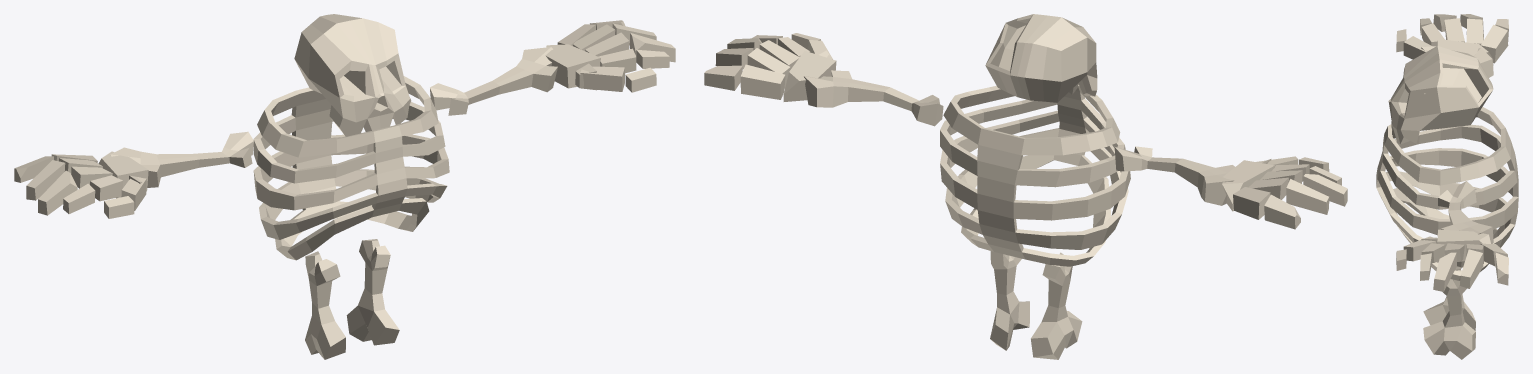
File: sckeleton.fbx
3 renders of one model, left to right at view 1: azimuth 30°, elevation 25°; view 2: azimuth 150°, elevation 25°; view 3: azimuth 270°, elevation 25°, orthographic. The views are drawn at different scales.
Parts seen in each view (by area): view 1: Box001, Object009, Object003, Object004, Object007, Object005, Object006, Object008; view 2: Box001, Object009, Object003, Object004, Object007, Object006, Object008, Object005; view 3: Box001, Object009, Object003, Object004, Object005, Object007, Object006, Object008.
Boxes of the visible parts, bbox=[...] form: Box001: bbox=[253, 76, 449, 260]; Object009: bbox=[294, 14, 411, 136]; Object003: bbox=[545, 20, 675, 92]; Object004: bbox=[14, 151, 148, 218]; Object007: bbox=[430, 47, 557, 115]; Object005: bbox=[346, 239, 399, 345]; Object006: bbox=[305, 251, 345, 359]; Object008: bbox=[110, 131, 253, 187]; Box001: bbox=[940, 84, 1130, 266]; Object009: bbox=[985, 14, 1097, 102]; Object003: bbox=[704, 33, 836, 101]; Object004: bbox=[1222, 156, 1347, 229]; Object007: bbox=[804, 70, 943, 126]; Object006: bbox=[1031, 252, 1082, 359]; Object008: bbox=[1114, 146, 1234, 205]; Object005: bbox=[990, 251, 1029, 350]; Box001: bbox=[1376, 107, 1518, 280]; Object009: bbox=[1388, 46, 1493, 144]; Object003: bbox=[1396, 229, 1508, 291]; Object004: bbox=[1396, 14, 1508, 65]; Object005: bbox=[1423, 270, 1475, 359]; Object007: bbox=[1438, 181, 1493, 243]; Object006: bbox=[1423, 266, 1475, 330]; Object008: bbox=[1474, 48, 1493, 77].
Bounding box in the file's own units: 70.97 × 36.24 × 16.03.
